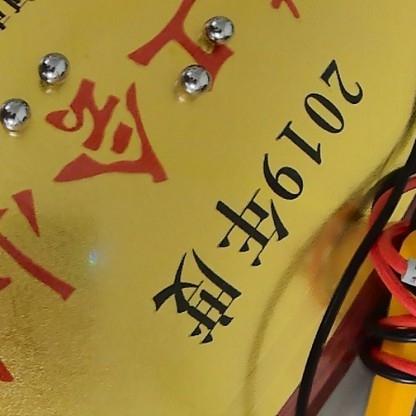ironball: (175, 57, 215, 103), (4, 94, 42, 134), (34, 51, 77, 86), (201, 8, 235, 46)
